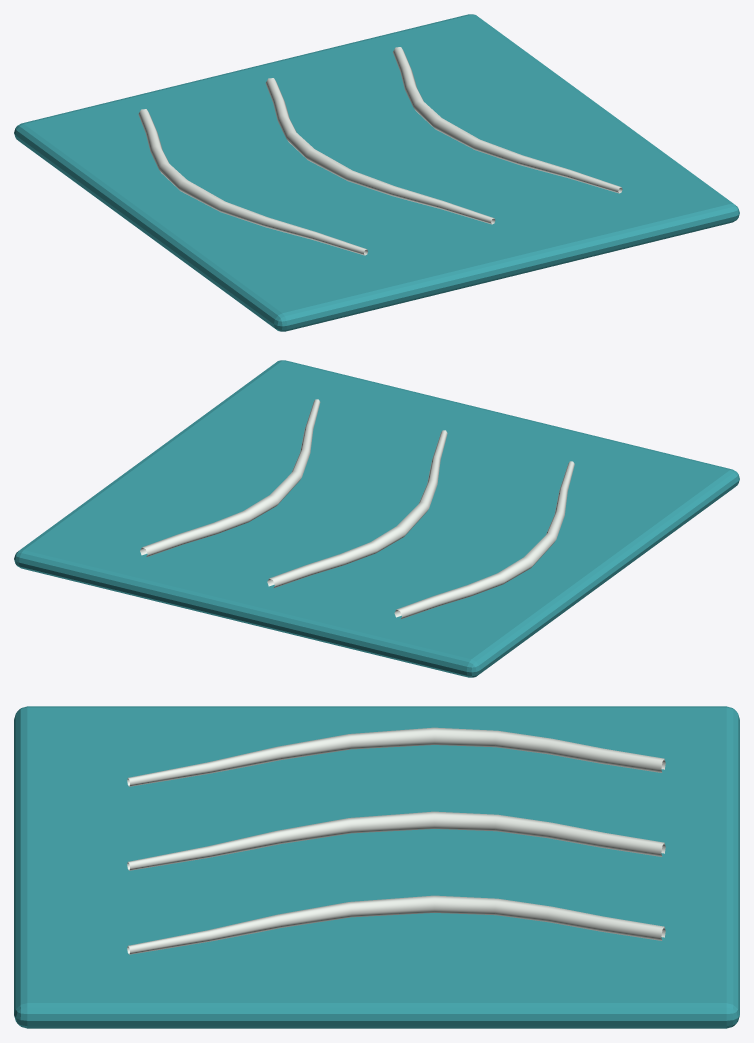
File: heaven_glide.glb
The picture shows the model from 3 angles, top to bottom: view 1: azimuth 30°, elevation 25°; view 2: azimuth 150°, elevation 25°; view 3: azimuth 270°, elevation 25°; orthographic projection. The views are drawn at different scales.
Visible parts, largest first — view 1: Merged Pond celadon reflection, Merged Cloud pearl; view 2: Merged Pond celadon reflection, Merged Cloud pearl; view 3: Merged Pond celadon reflection, Merged Cloud pearl.
Part boxes in pixels (left/top/right/bottom): Merged Pond celadon reflection: left=14, top=14, right=739, bottom=331; Merged Cloud pearl: left=138, top=47, right=622, bottom=255; Merged Pond celadon reflection: left=14, top=360, right=739, bottom=677; Merged Cloud pearl: left=140, top=399, right=574, bottom=619; Merged Pond celadon reflection: left=14, top=706, right=739, bottom=1028; Merged Cloud pearl: left=127, top=727, right=665, bottom=954.
Size of the model in its own units: 1.9 by 0.1067 by 1.9.
